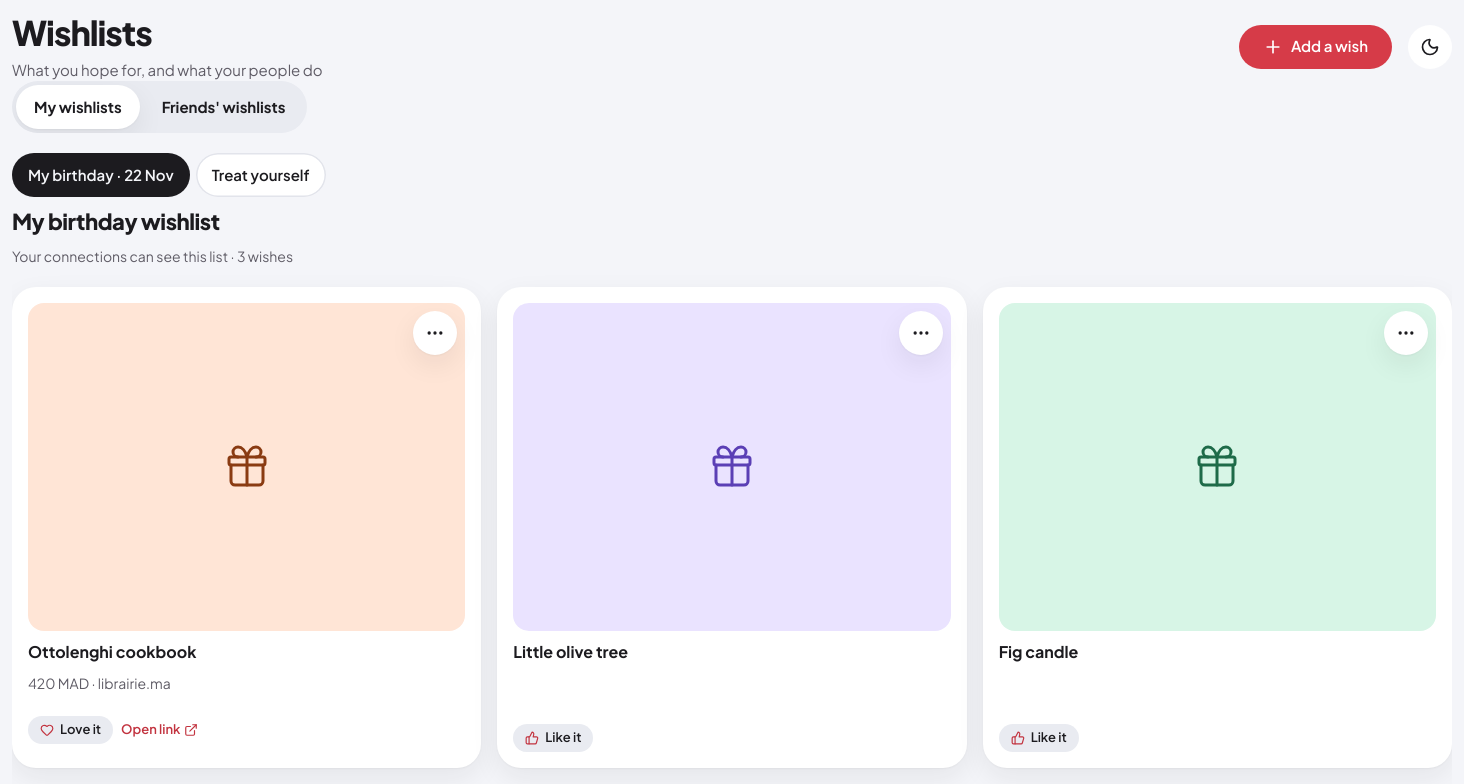
Test: Wishlists › the private list says so, and an empty list has Noor
Click the button "Treat yourself".
click(261, 175)  # box [196,153,326,197]
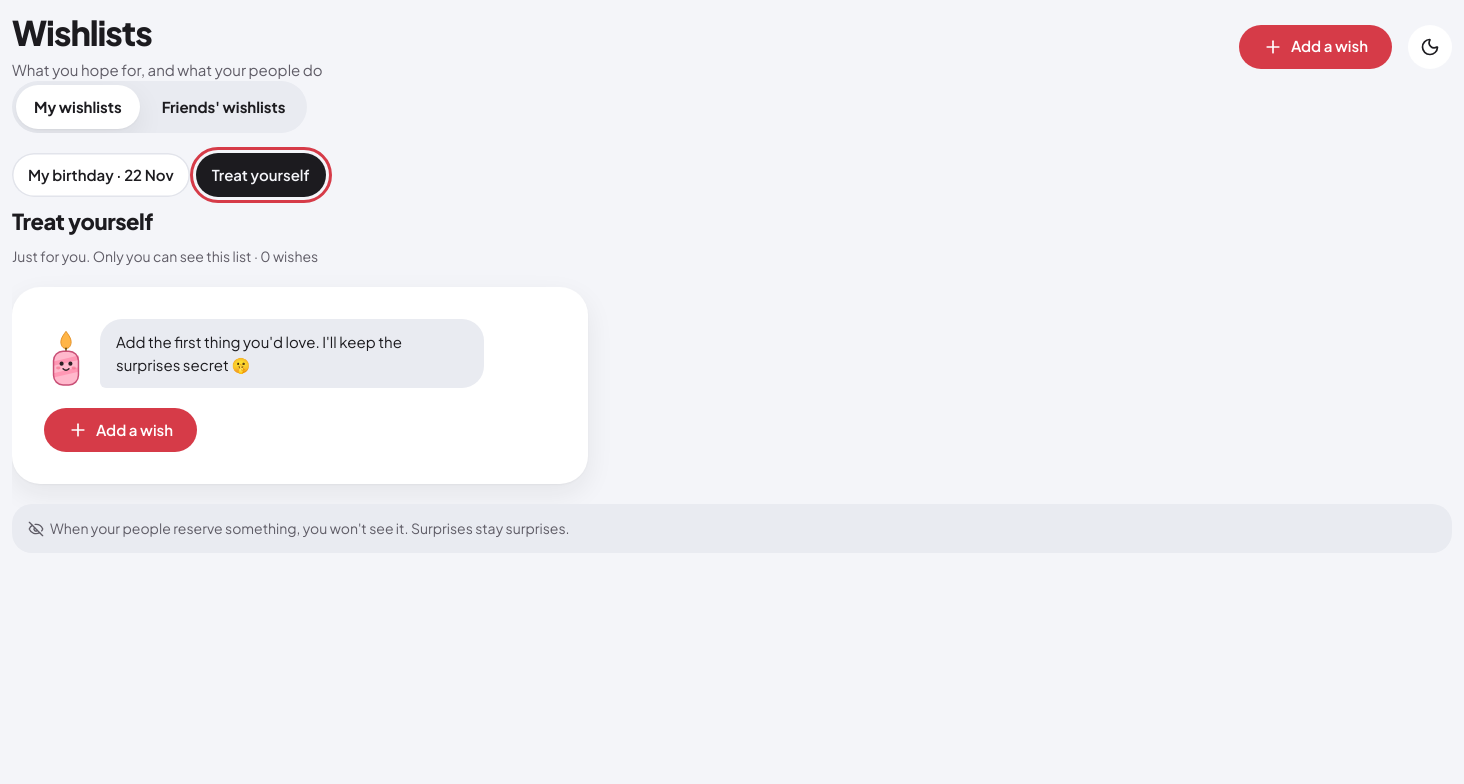
Check: the text "Just for you. Only you can see this list · 0 wishes" is shown, box [12,246,326,267]
Check: the text "Add the first thing you'd love" is shown, box [116,332,402,374]
